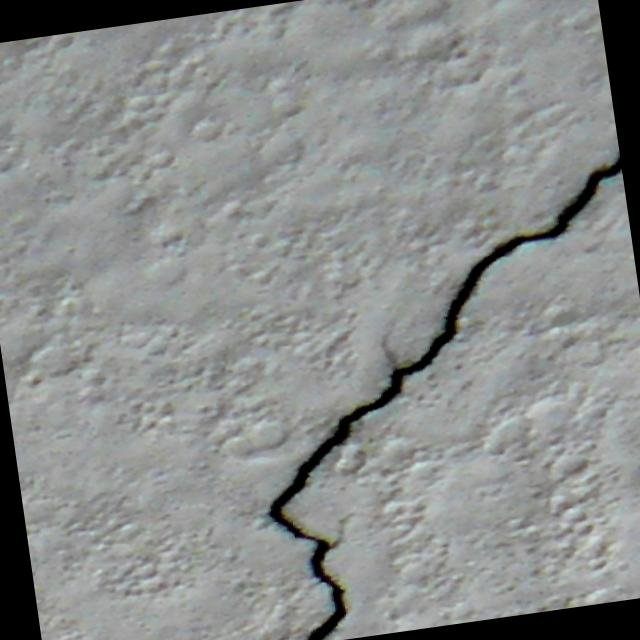crack: (208, 154, 640, 640)
